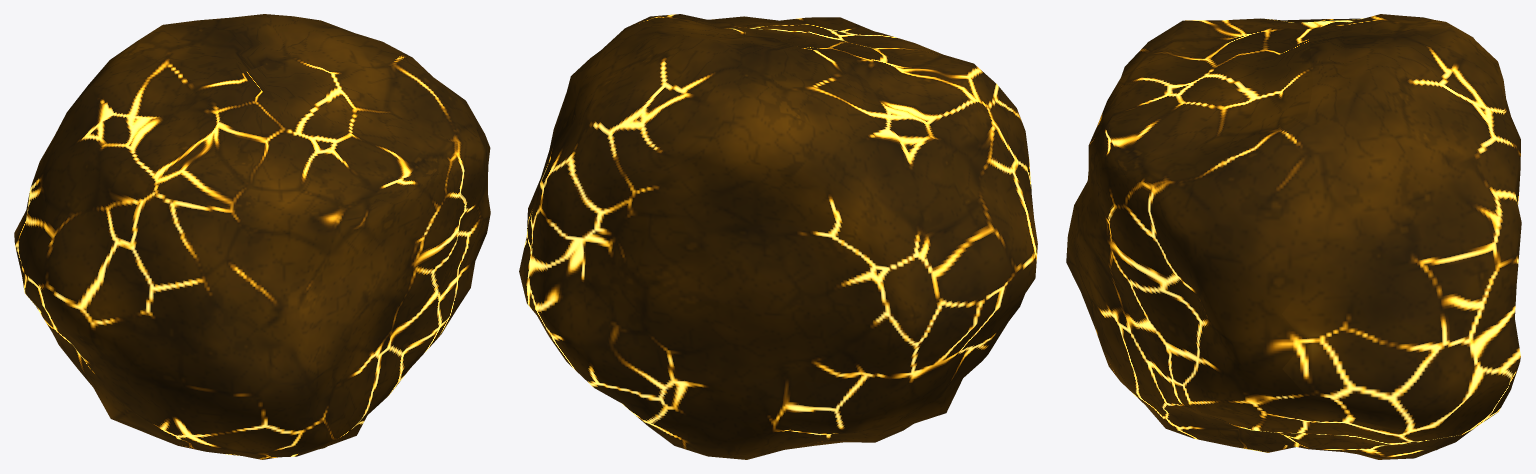
File: rock_warm_gold.glb
3 views of the same model, side by side, from view 1: azimuth 30°, elevation 25°; view 2: azimuth 150°, elevation 25°; view 3: azimuth 270°, elevation 25° (orthographic). The views are drawn at different scales.
Parts seen in each view (by area): view 1: rock; view 2: rock; view 3: rock.
Part boxes in pixels (x1=…): rock: x1=14, y1=14, x2=490, y2=459; rock: x1=519, y1=14, x2=1037, y2=459; rock: x1=1066, y1=14, x2=1521, y2=459.
Size of the model in its own units: 2.04 by 1.74 by 1.71.
Materials: 1 (1 with a texture image).
